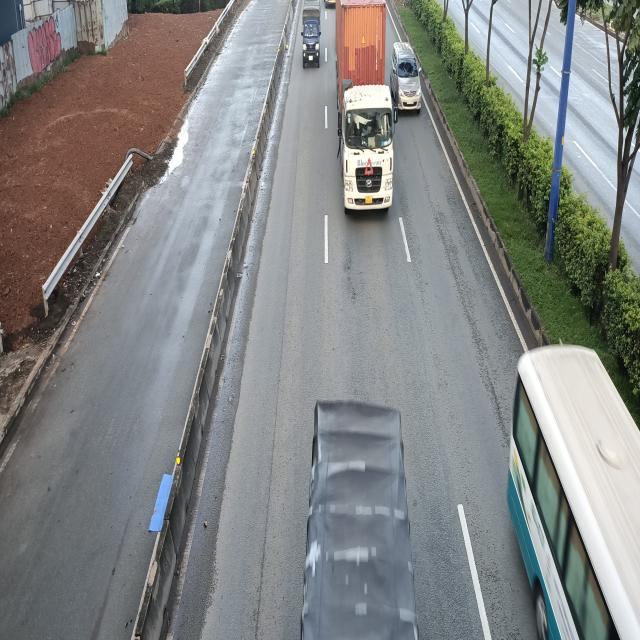car: (392, 42, 424, 114)
coach: (509, 340, 640, 637)
container: (337, 0, 398, 217)
truck: (301, 1, 323, 69)
